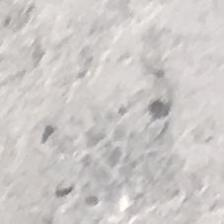Crack: (29, 76, 223, 222)
